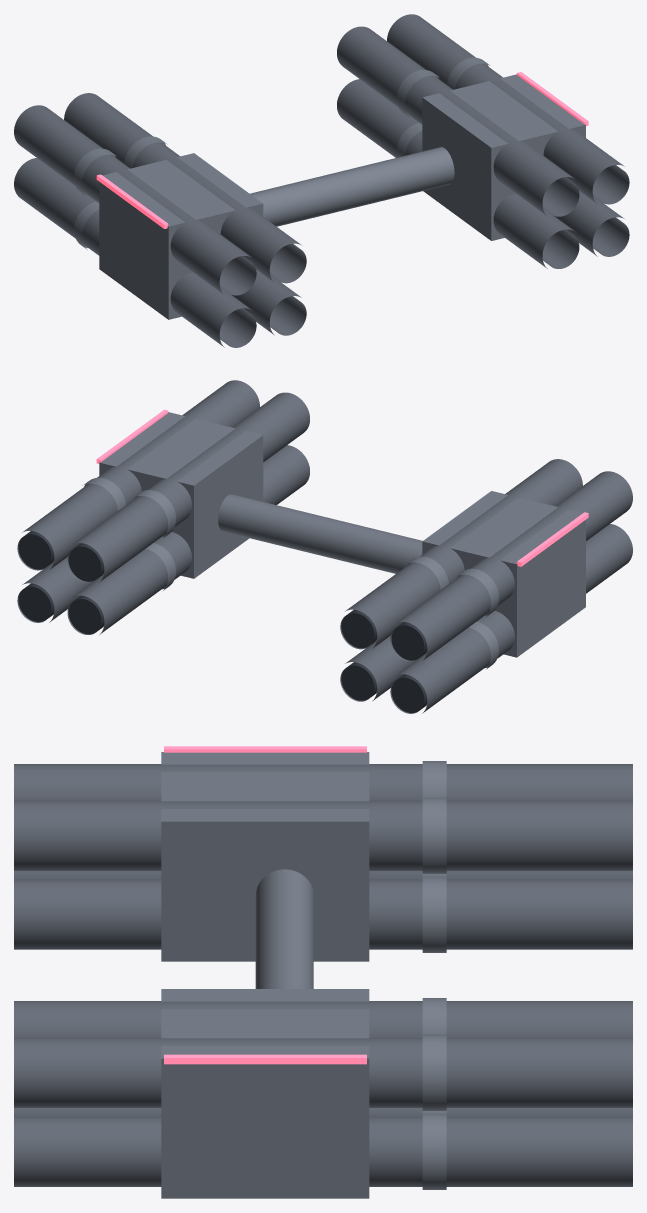
File: Automatic_gun.glb
The picture shows the model from 3 angles, top to bottom: view 1: azimuth 30°, elevation 25°; view 2: azimuth 150°, elevation 25°; view 3: azimuth 270°, elevation 25°; orthographic projection. The views are drawn at different scales.
Parts seen in each view (by area): view 1: Automatic_Gun; view 2: Automatic_Gun; view 3: Automatic_Gun.
Boxes of the visible parts, x1,y1,x2,y2 form: Automatic_Gun: [14, 14, 629, 347]; Automatic_Gun: [17, 380, 632, 713]; Automatic_Gun: [14, 746, 632, 1198].
Bounding box in the file's own units: 3.05 × 0.676 × 2.56.
